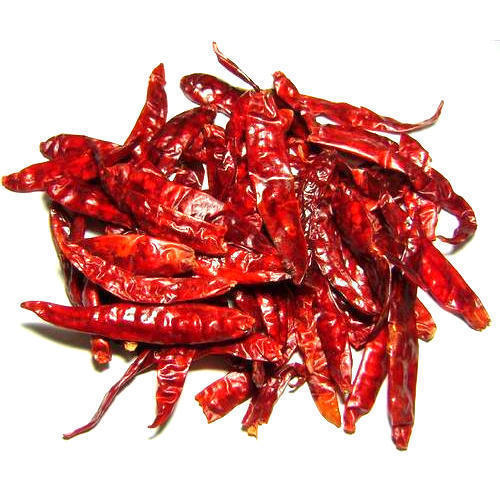Cabai: (46, 55, 461, 451)
